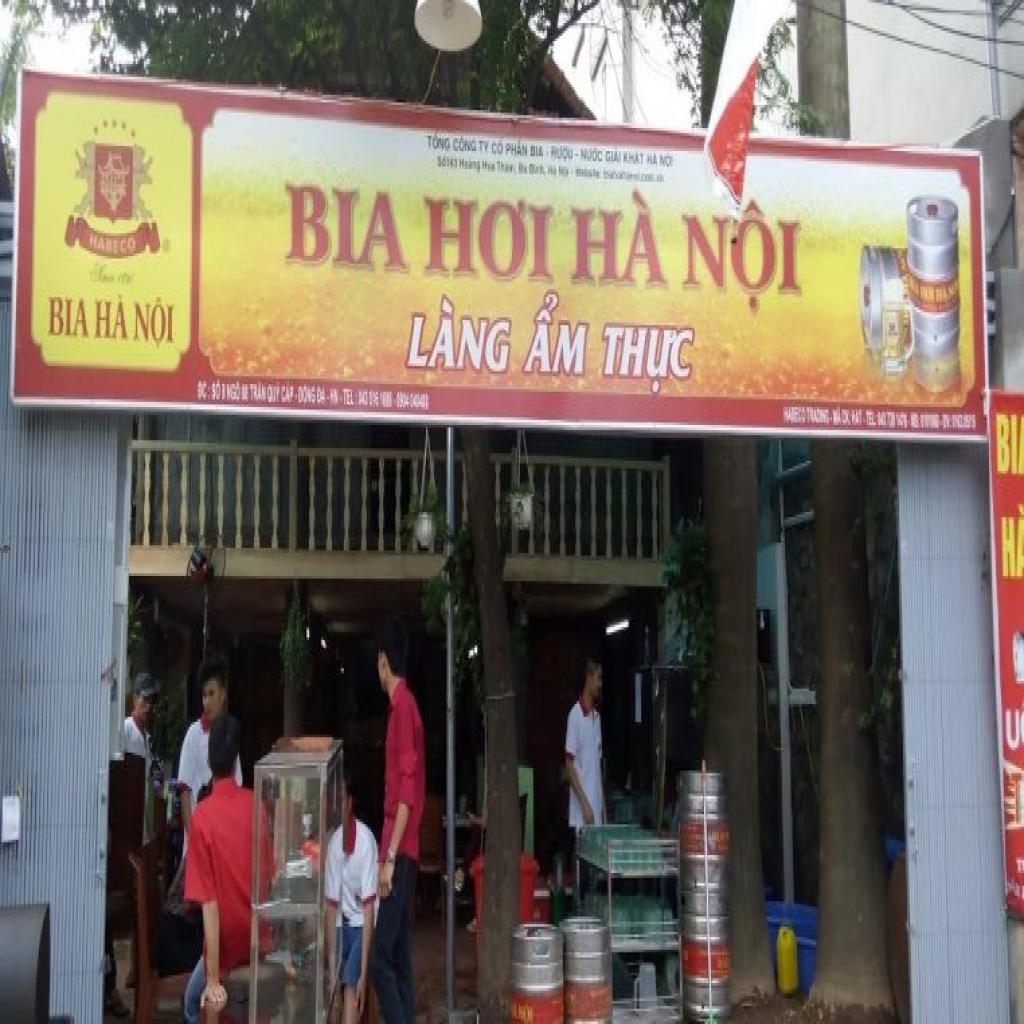text: (678, 194, 806, 322), (281, 177, 415, 279), (421, 192, 559, 289), (567, 187, 673, 292), (402, 292, 519, 379), (596, 320, 698, 399), (520, 287, 594, 381), (133, 294, 177, 351), (46, 294, 92, 346), (92, 292, 132, 343), (994, 407, 1022, 479), (87, 228, 137, 261), (998, 514, 1018, 584), (1004, 706, 1022, 758), (426, 131, 453, 156), (782, 404, 808, 428), (452, 133, 478, 156), (806, 407, 832, 430), (548, 144, 575, 166), (506, 138, 530, 162), (579, 144, 605, 166), (458, 154, 482, 176), (297, 381, 317, 407), (624, 146, 646, 169), (496, 159, 519, 179), (248, 382, 268, 404), (341, 386, 359, 410), (436, 154, 460, 172), (528, 161, 548, 182), (266, 381, 282, 407), (604, 146, 624, 166), (489, 138, 507, 159), (198, 379, 212, 404), (558, 164, 575, 184), (658, 151, 674, 172), (227, 382, 242, 404), (316, 384, 330, 407), (530, 141, 546, 161), (211, 376, 222, 404), (646, 148, 660, 169), (330, 386, 342, 410), (481, 158, 497, 176), (865, 410, 879, 430), (478, 138, 492, 156), (547, 161, 559, 182), (518, 159, 530, 179), (1013, 858, 1024, 878), (222, 382, 227, 404), (574, 151, 580, 159)
